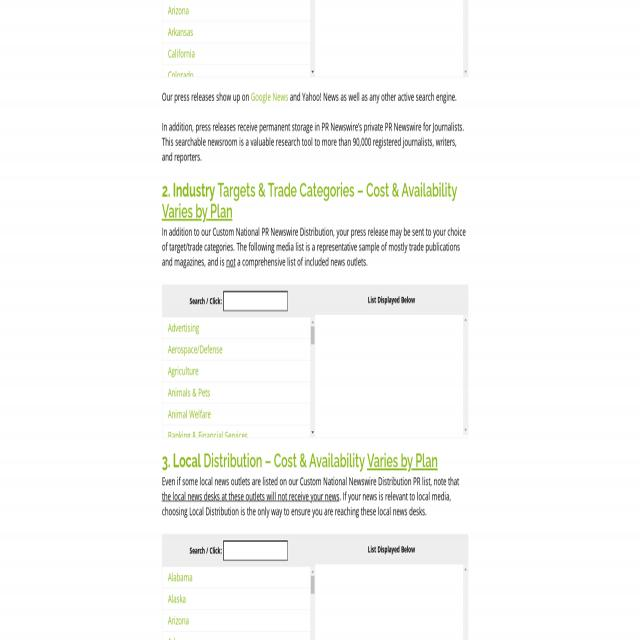button: (162, 0, 310, 21), (162, 317, 310, 338), (162, 339, 310, 360), (162, 382, 310, 403), (162, 43, 310, 64), (162, 567, 310, 588), (162, 22, 310, 42), (162, 361, 310, 381), (162, 404, 310, 424), (162, 589, 310, 609), (162, 610, 310, 630), (162, 425, 310, 439), (162, 65, 310, 78), (463, 424, 469, 436), (463, 66, 469, 78), (310, 327, 314, 344), (463, 315, 469, 326), (310, 427, 315, 438), (310, 66, 315, 76), (310, 317, 315, 326)
field: (223, 540, 287, 561), (223, 291, 287, 311)
